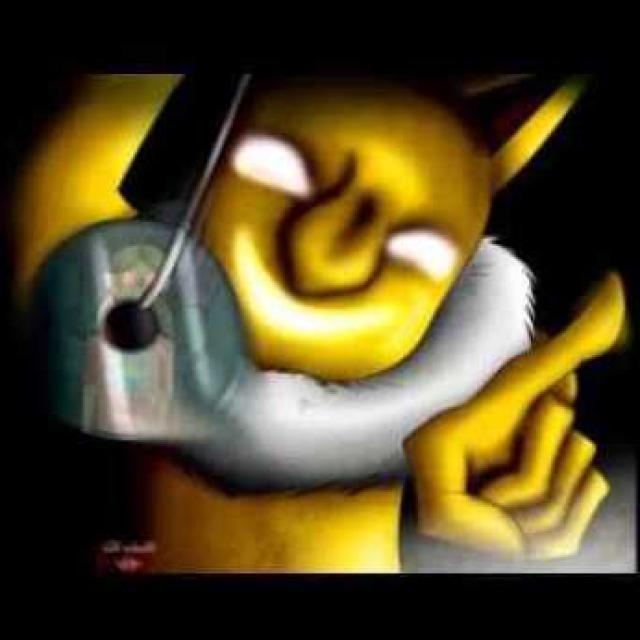Hypno: (42, 73, 608, 575)
